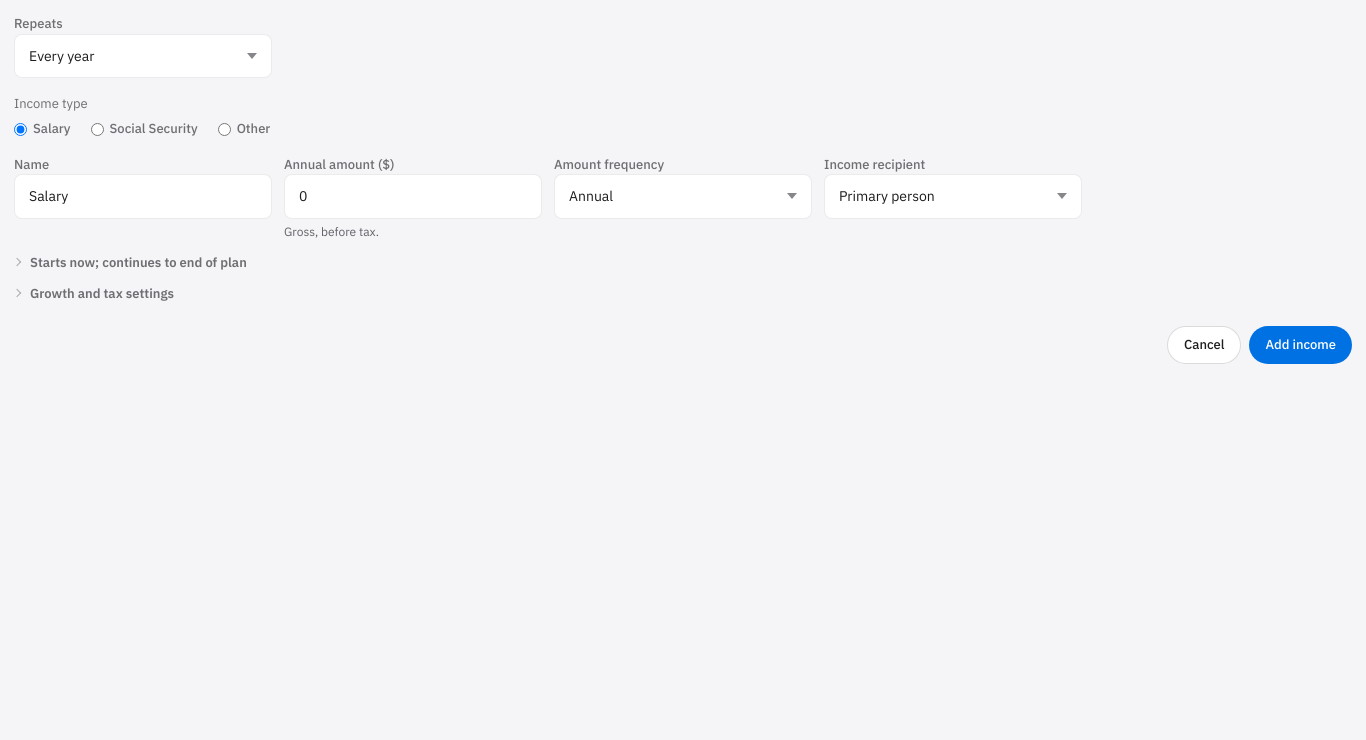
Test: IncomeForm › exposes the PIA estimate option and validates its required input
Click the radio button labelled "Social Security" at (97, 129), box [90, 122, 104, 136]
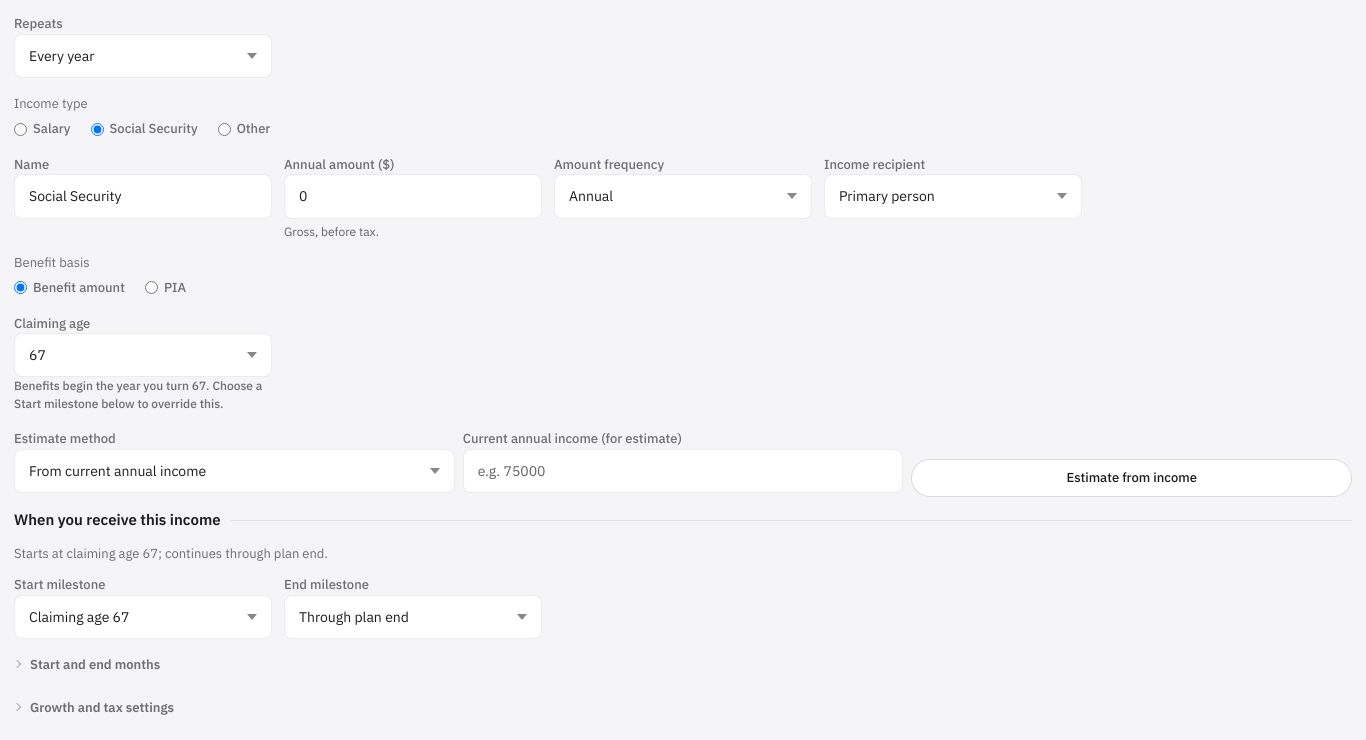
Select "From monthly PIA" in the dropdown labelled "Estimate method" at (234, 471), box [14, 449, 455, 493]
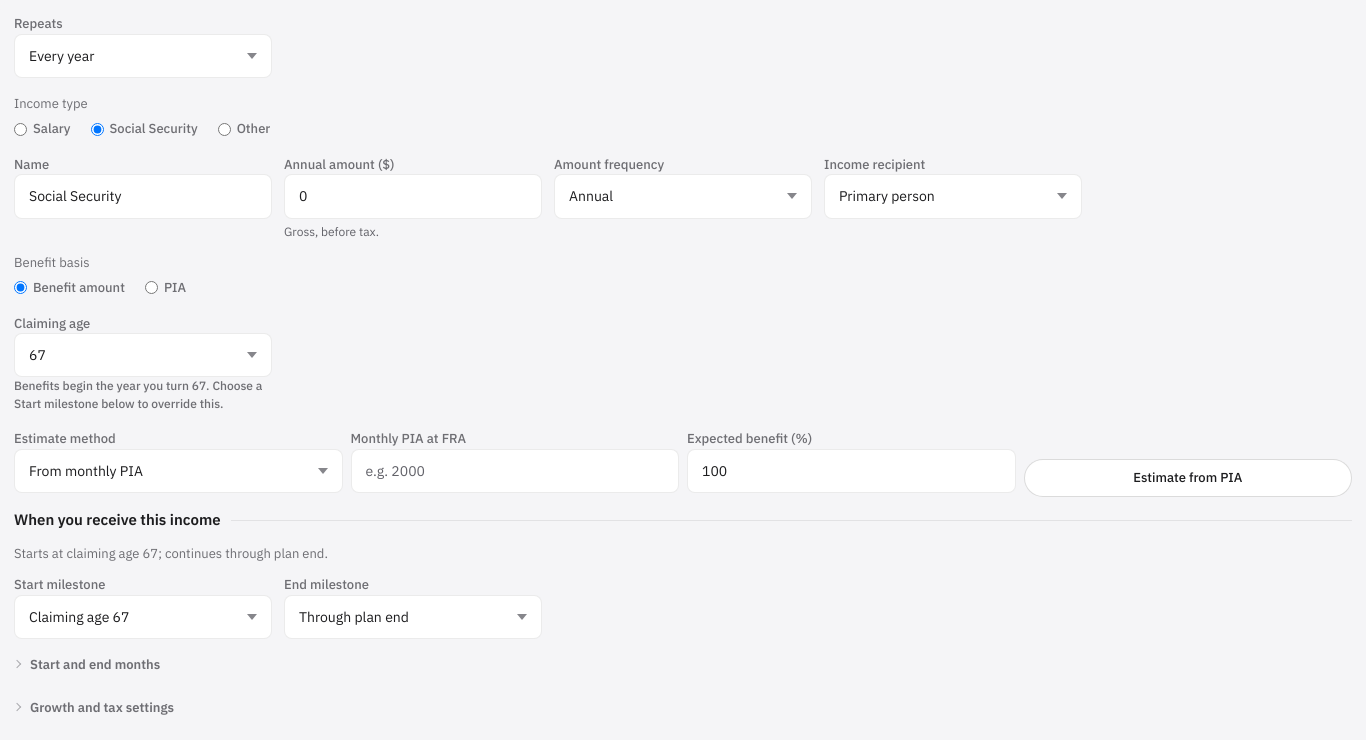
expect the field labelled "Monthly PIA at FRA" is shown: met, box [350, 449, 679, 493]
expect the number field labelled "Expected benefit (%)" holds "100": met, box [687, 449, 1016, 493]
Click the button "Estimate from PIA" at (1188, 478), box [1024, 459, 1352, 497]
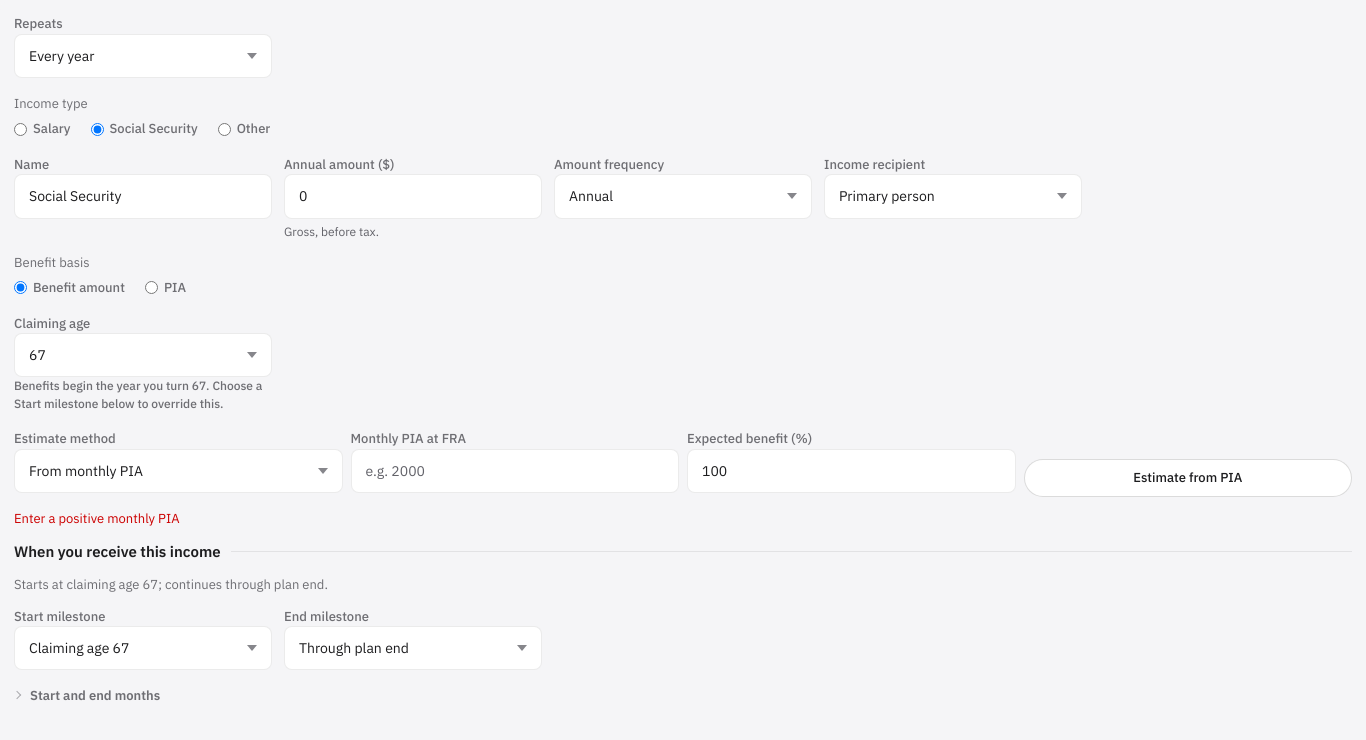
expect the text "Enter a positive monthly PIA" is shown: met, box [14, 510, 180, 527]
